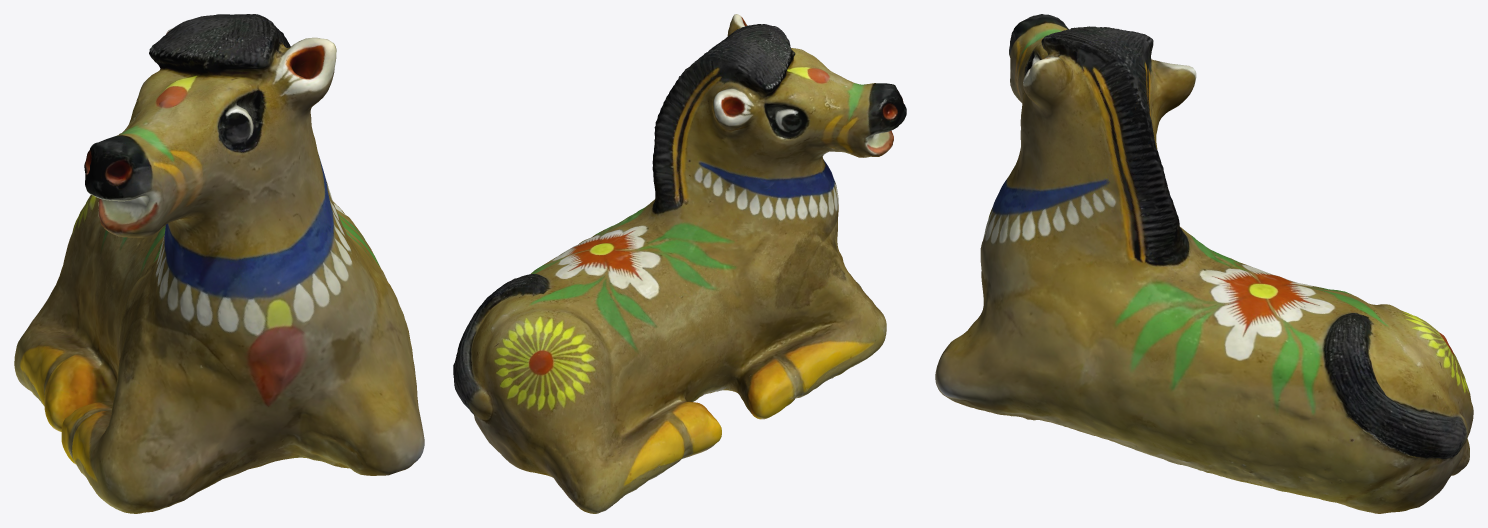
3 renders of one model, left to right at view 1: azimuth 30°, elevation 25°; view 2: azimuth 150°, elevation 25°; view 3: azimuth 270°, elevation 25°, orthographic. The views are drawn at different scales.
Bounding box in the file's own units: 0.6682 × 0.8032 × 0.8968.
1 material, 1 textured.
